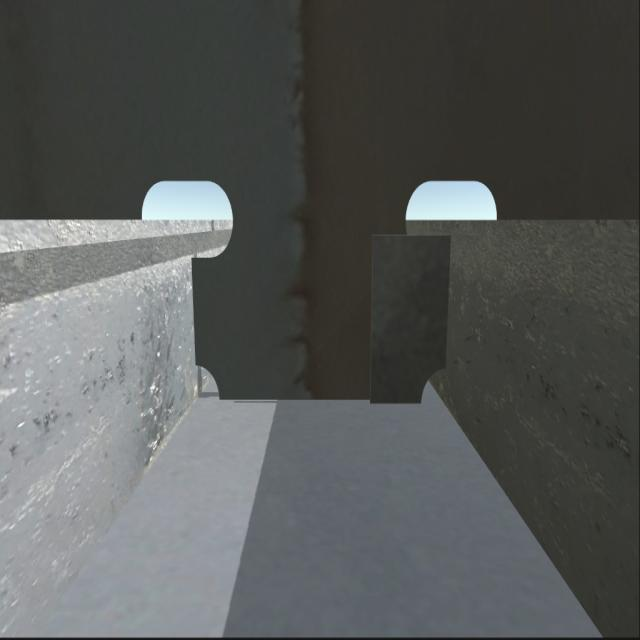fillet_hole: (191, 354, 224, 406), (417, 366, 446, 406)
fillet_yong_jeop_jang: (217, 394, 422, 404)
longi_yong_jeop_jang: (435, 234, 454, 368), (184, 245, 198, 366)
plate_CP01: (366, 234, 450, 403)
